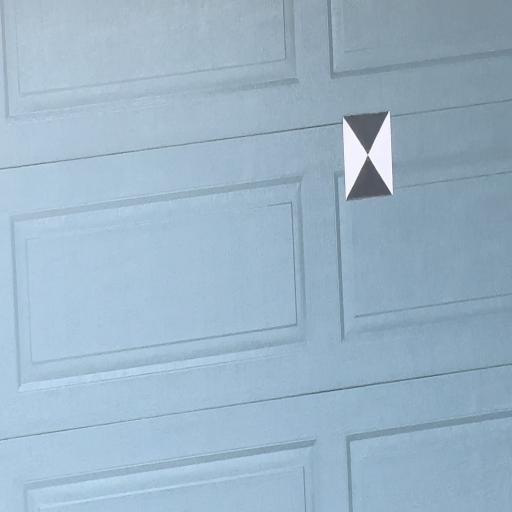target: (342, 112, 393, 200)
